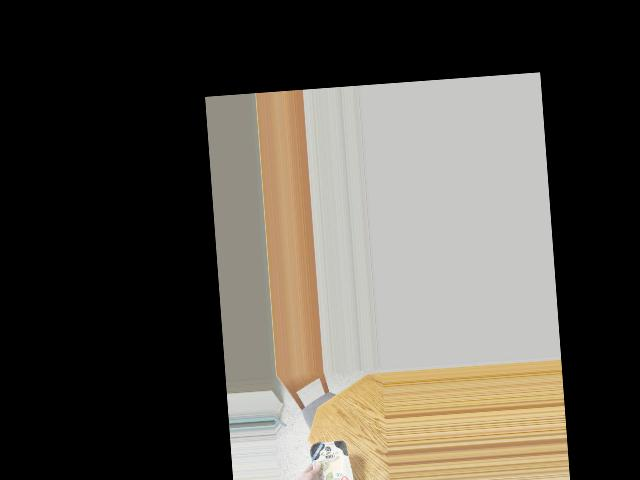cheese: (306, 433, 349, 480)
